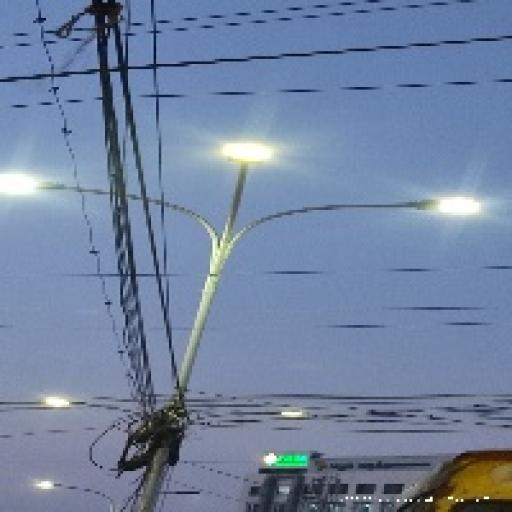Working: (402, 187, 491, 222), (208, 131, 276, 175), (0, 163, 55, 210), (39, 389, 75, 418), (271, 404, 308, 428), (30, 474, 56, 496)
